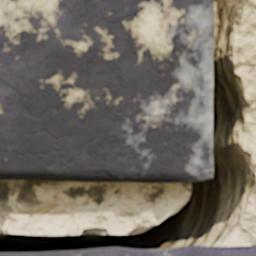brick: (0, 0, 212, 181)
broken_brick: (0, 245, 255, 255)
crack: (0, 0, 255, 253)
